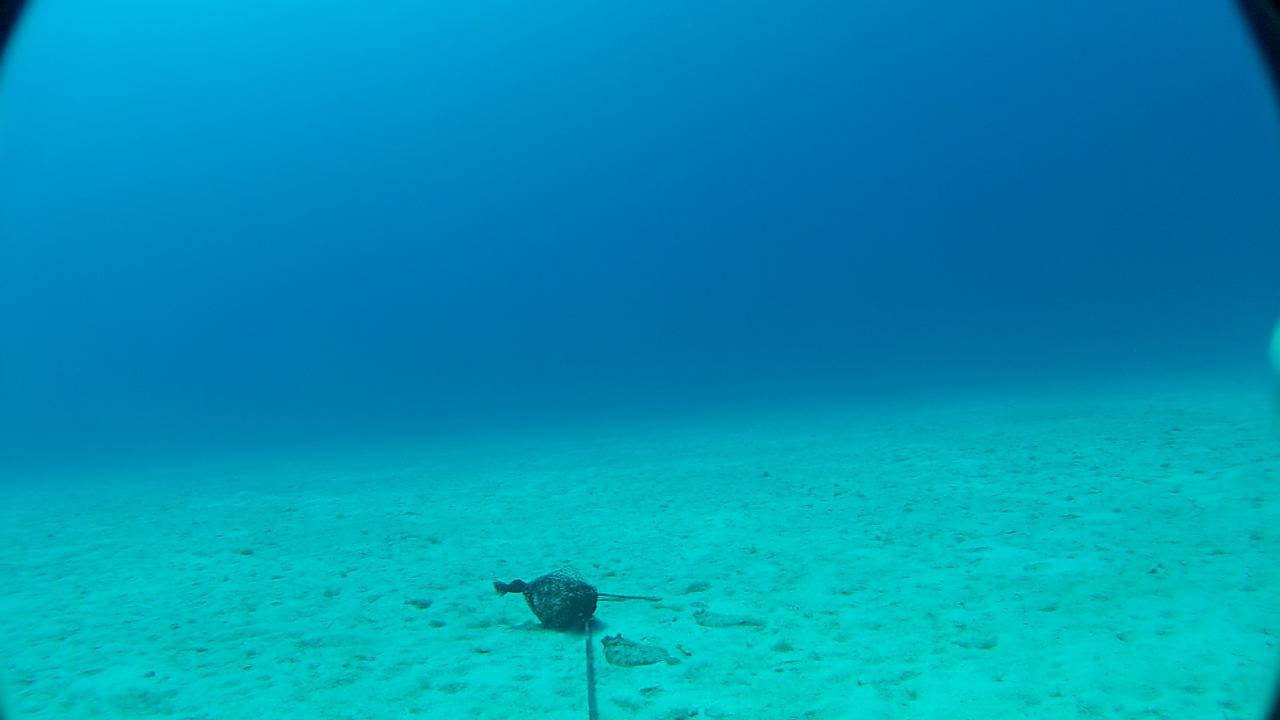bothus: (596, 624, 681, 675), (686, 603, 767, 634)
